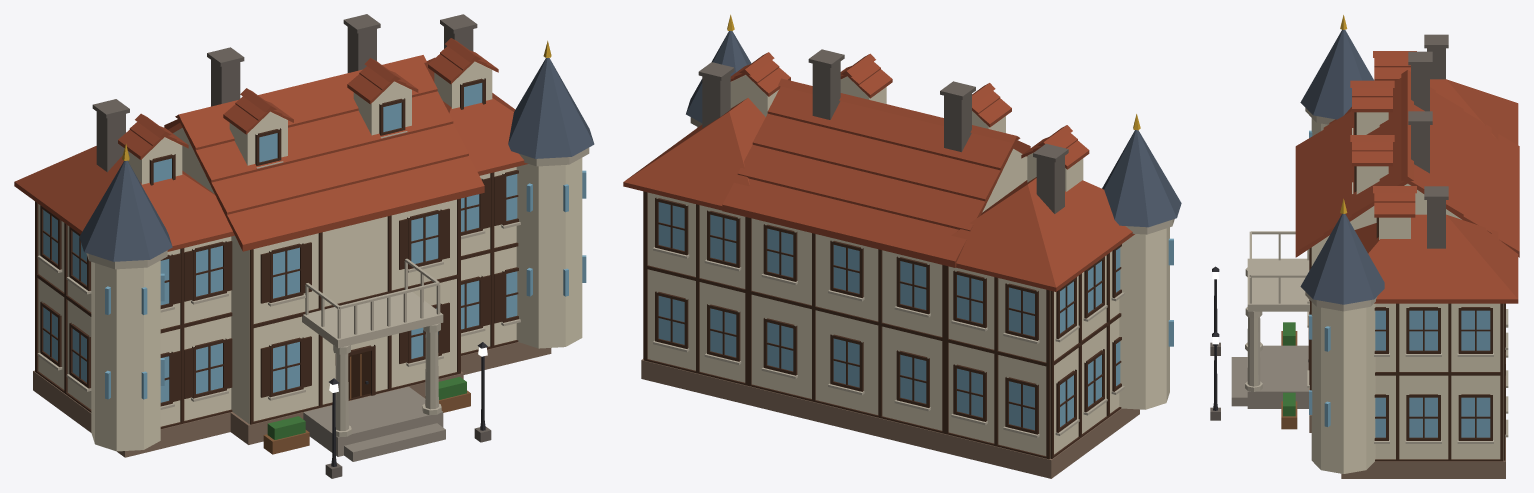
Rendered from mansion.fbx.
3 renders of one model, left to right at view 1: azimuth 30°, elevation 25°; view 2: azimuth 150°, elevation 25°; view 3: azimuth 270°, elevation 25°, orthographic. The views are drawn at different scales.
Visible parts, largest first — view 1: mansion; view 2: mansion; view 3: mansion.
Boxes of the visible parts, box(x1,y1,x2,y2) form: mansion: box(14, 14, 594, 478); mansion: box(623, 14, 1181, 478); mansion: box(1210, 15, 1519, 478).
Size of the model in its own units: 16.3 by 10.32 by 9.67.
